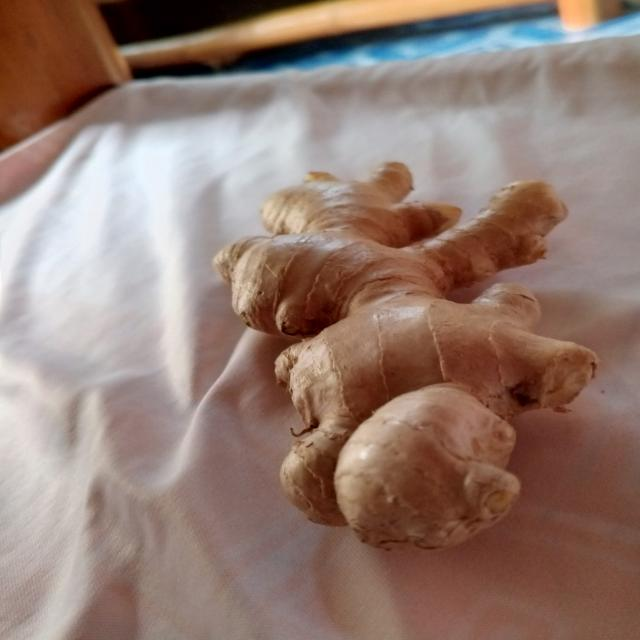ginger: (221, 159, 598, 548)
